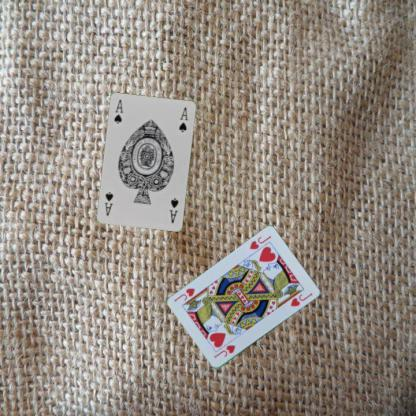As: (168, 196, 180, 224), (112, 97, 124, 125)
Jh: (212, 342, 236, 361), (247, 233, 272, 251)
